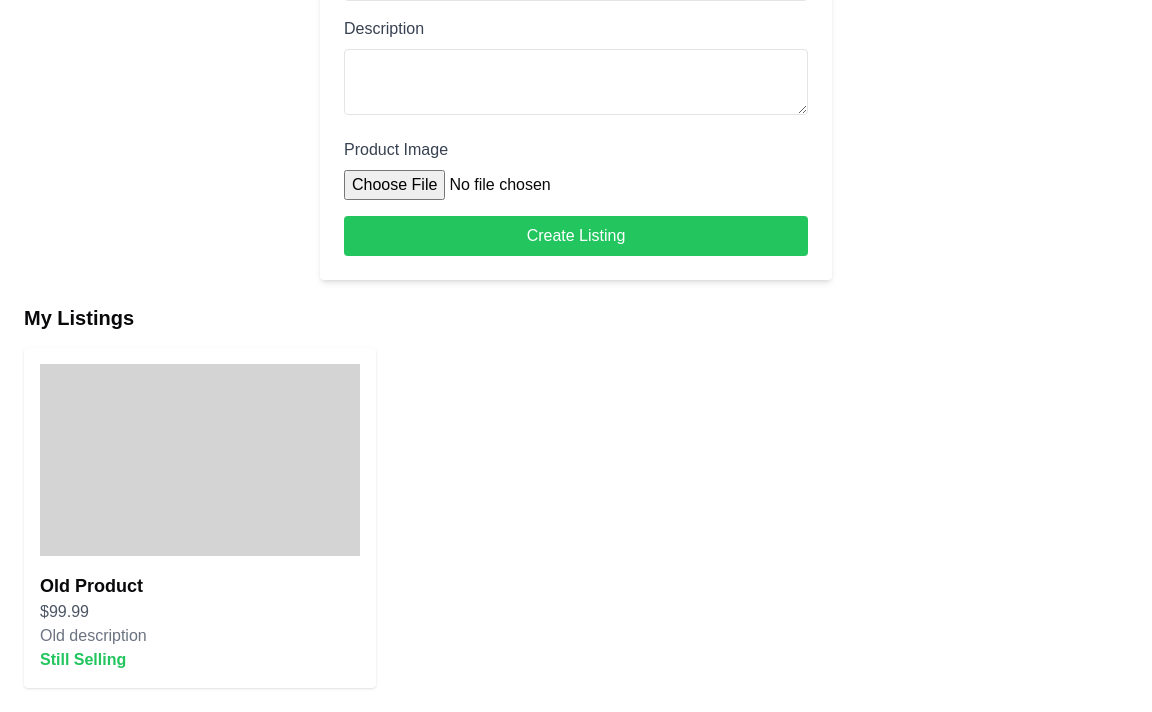
Test: SellerPage Component › allows seller to edit their existing product listing
(page scrolled)
Click the heading "Old Product": (92, 586) [40,576,143,596]
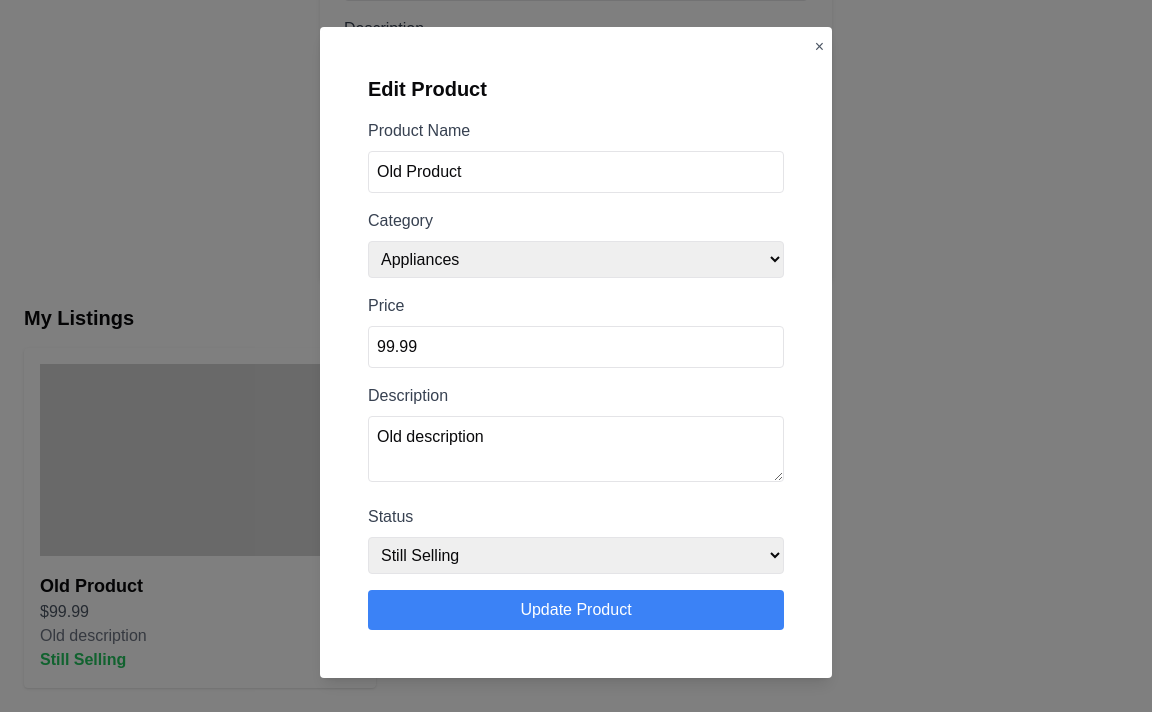
Expected: the heading "Edit Product" is shown, [368,78,487,100]
Replace the text in the field showing "Old Product" with "New Product": (576, 172) [368,150,784,192]
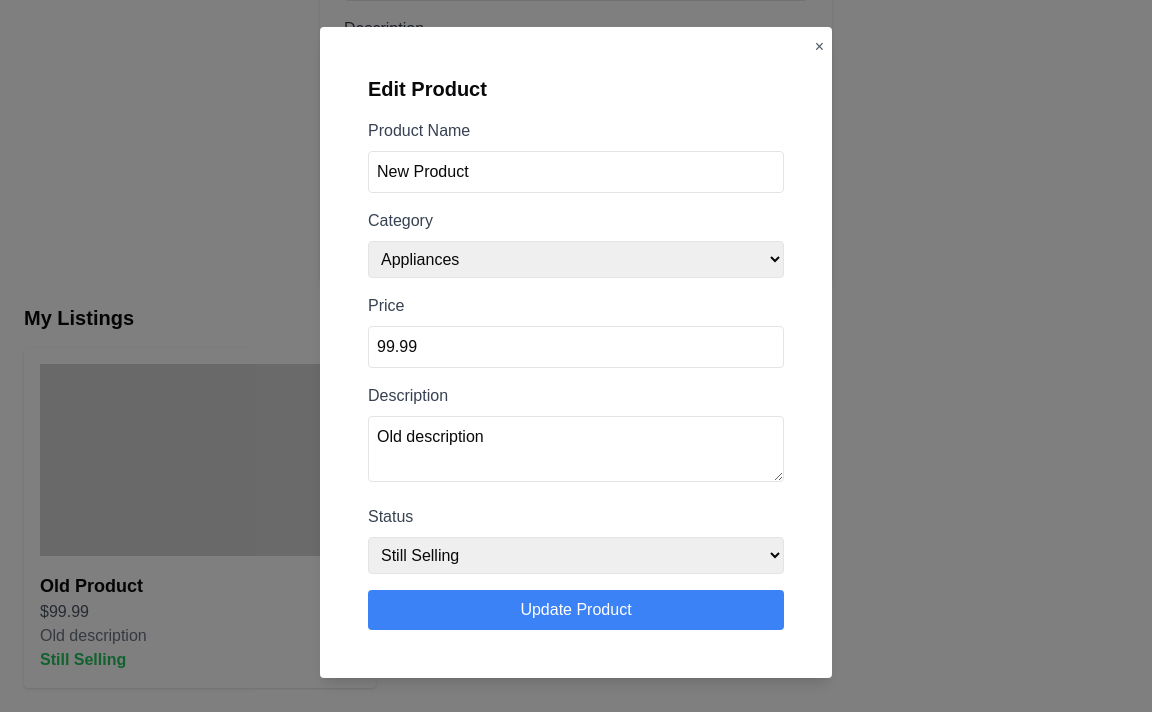
Click the button "Update Product": (576, 610) [368,590,784,630]
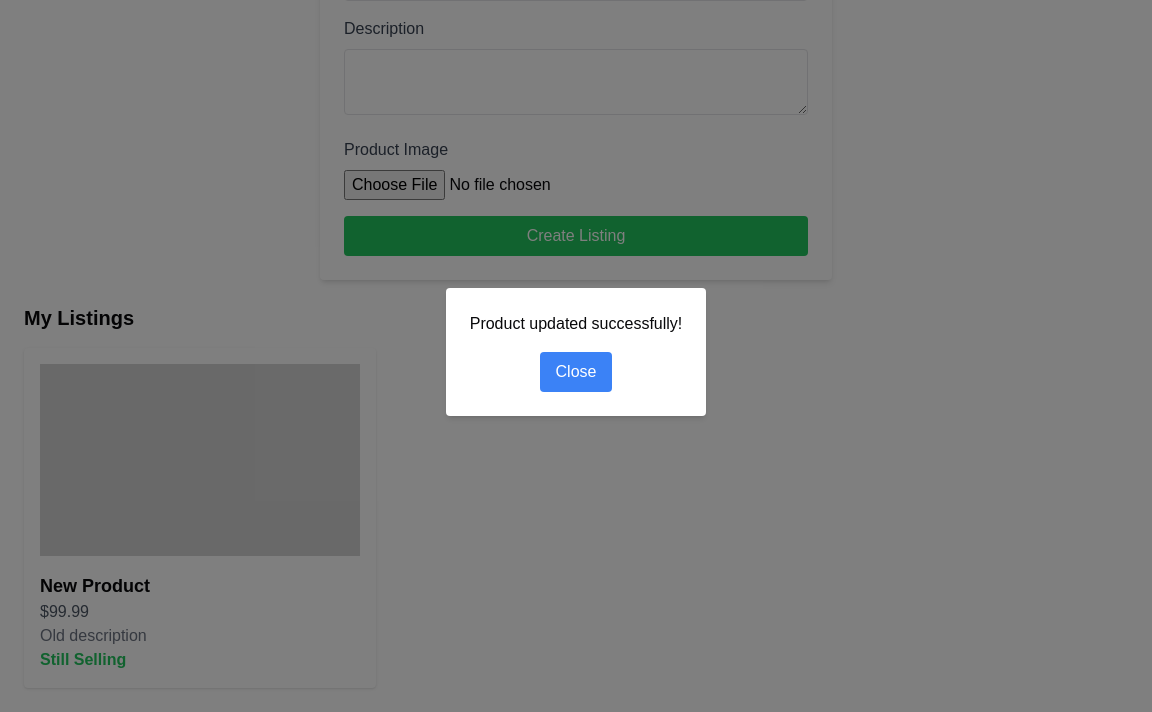
Expected: the heading "Old Product" is shown, [40,576,150,596]
Expected: the heading "Edit Product" is gone
